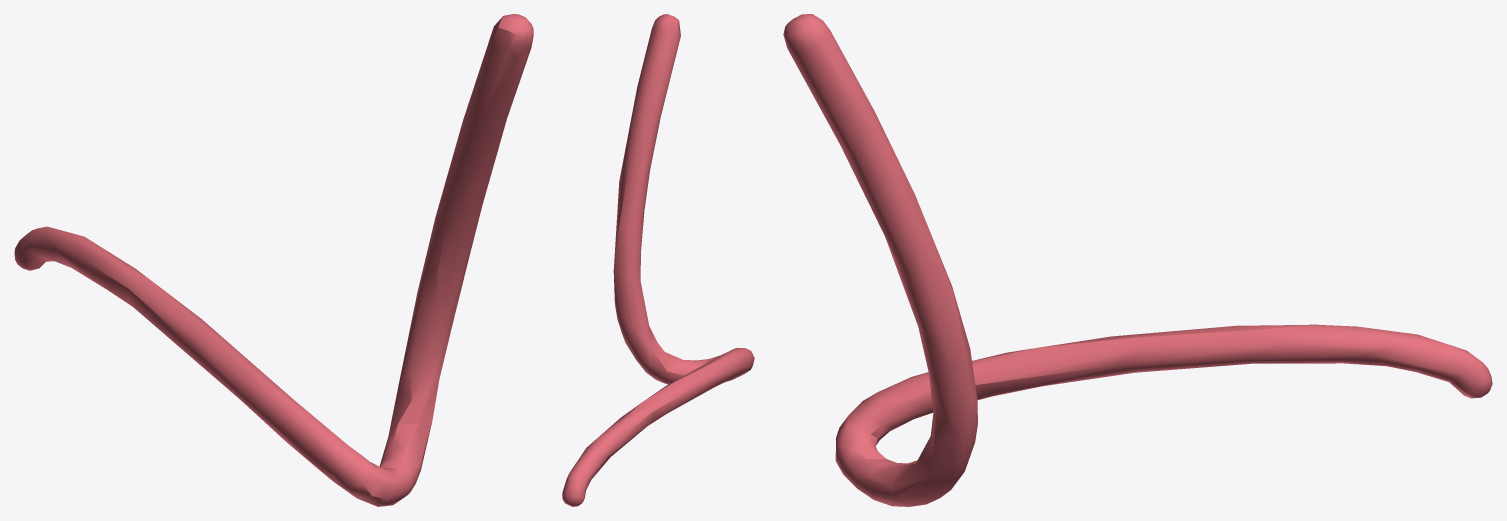
The model's file is fma44881_fj2062.glb.
3 renders of one model, left to right at view 1: azimuth 30°, elevation 25°; view 2: azimuth 150°, elevation 25°; view 3: azimuth 270°, elevation 25°, orthographic. The views are drawn at different scales.
Parts seen in each view (by area): view 1: FMA44881_FJ2062; view 2: FMA44881_FJ2062; view 3: FMA44881_FJ2062.
Part boxes in pixels (x1,y1,x2,y2): FMA44881_FJ2062: (14,14,533,506); FMA44881_FJ2062: (562,14,754,506); FMA44881_FJ2062: (783,14,1492,506).
Bounding box in the file's own units: 0.00865 × 0.0194 × 0.0236.
